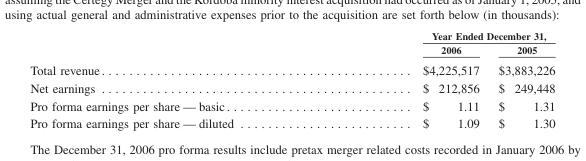table: (29, 29, 554, 130)
table column: (29, 29, 327, 130), (327, 29, 488, 130), (488, 29, 554, 130)
table column header: (29, 29, 554, 58)
table row: (29, 58, 554, 78), (29, 78, 554, 96), (29, 96, 554, 114), (29, 42, 554, 58), (29, 114, 554, 130), (29, 29, 554, 42)
table spanning cell: (327, 29, 554, 42)
